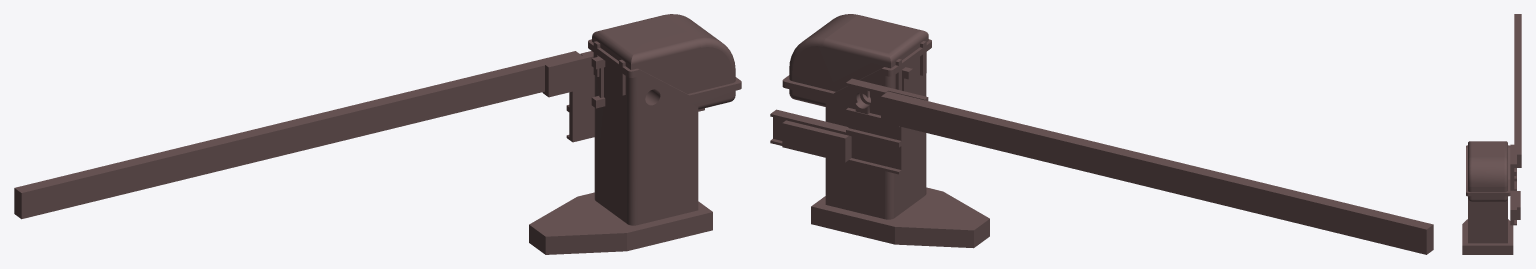
File: level_crossing.fbx
3 renders of one model, left to right at view 1: azimuth 30°, elevation 25°; view 2: azimuth 150°, elevation 25°; view 3: azimuth 270°, elevation 25°, orthographic. The views are drawn at different scales.
Parts seen in each view (by area): view 1: Object_2; view 2: Object_2; view 3: Object_2.
Part boxes in pixels (bbox=[...]): Object_2: bbox=[14, 14, 741, 254]; Object_2: bbox=[770, 14, 1433, 254]; Object_2: bbox=[1462, 14, 1521, 254].
Bounding box in the file's own units: 54.5 × 14.3 × 8.
